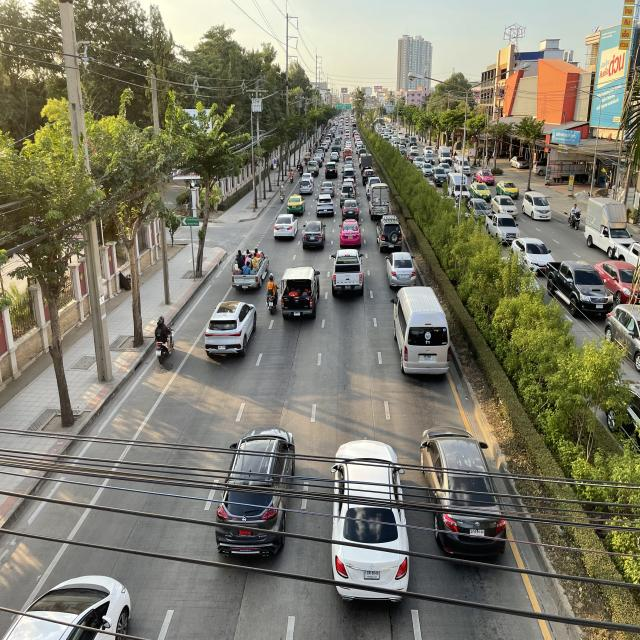bike: (153, 313, 176, 367), (264, 270, 280, 318), (280, 184, 286, 204), (288, 168, 294, 184)
car: (329, 438, 411, 603), (418, 422, 508, 558), (214, 424, 297, 560), (390, 285, 452, 379), (204, 299, 258, 359), (330, 248, 365, 296), (385, 250, 417, 288), (375, 215, 402, 253), (302, 219, 327, 250), (273, 212, 299, 240), (338, 219, 362, 248), (314, 192, 334, 218), (286, 193, 307, 214), (341, 199, 359, 222)
truck: (280, 264, 322, 322), (230, 246, 270, 291), (368, 183, 390, 221)
